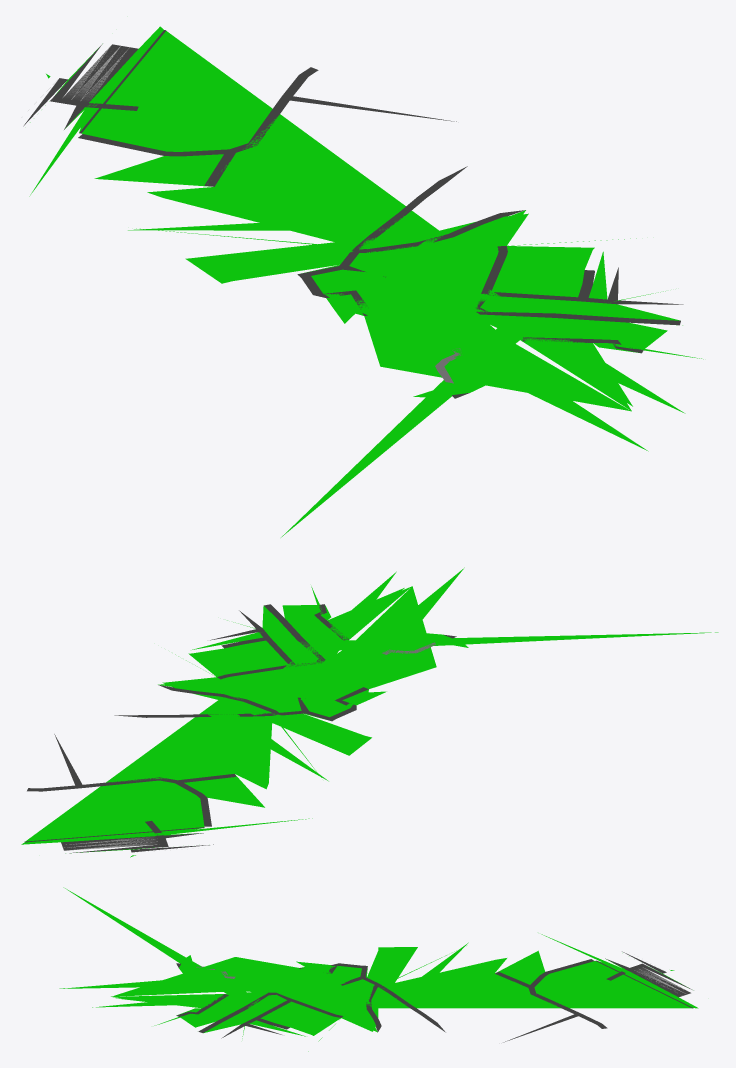
3 views of the same model, one above another, from view 1: azimuth 30°, elevation 25°; view 2: azimuth 150°, elevation 25°; view 3: azimuth 270°, elevation 25° (orthographic). The views are drawn at different scales.
Bounding box in the file's own units: 259 × 0.001 × 464.
